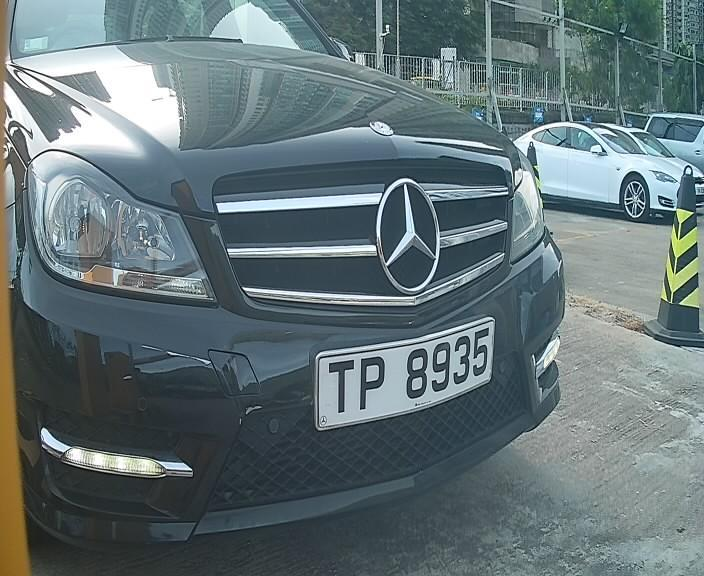privatecar: (2, 10, 585, 552)
